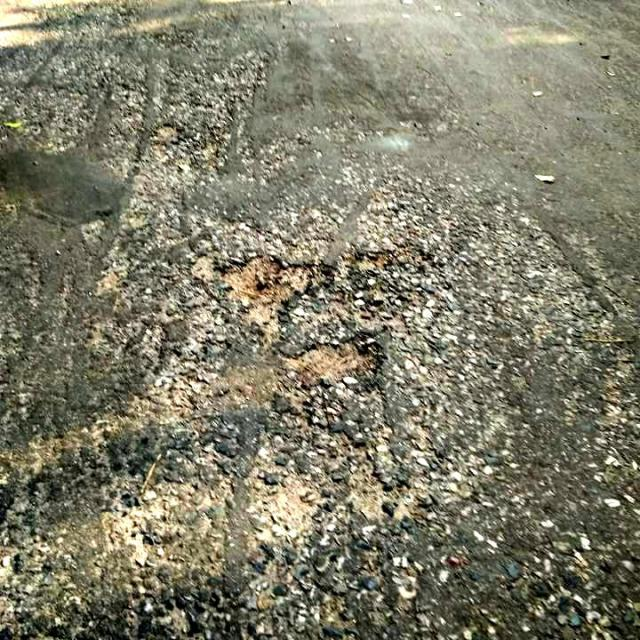pothole: (203, 231, 476, 447)
